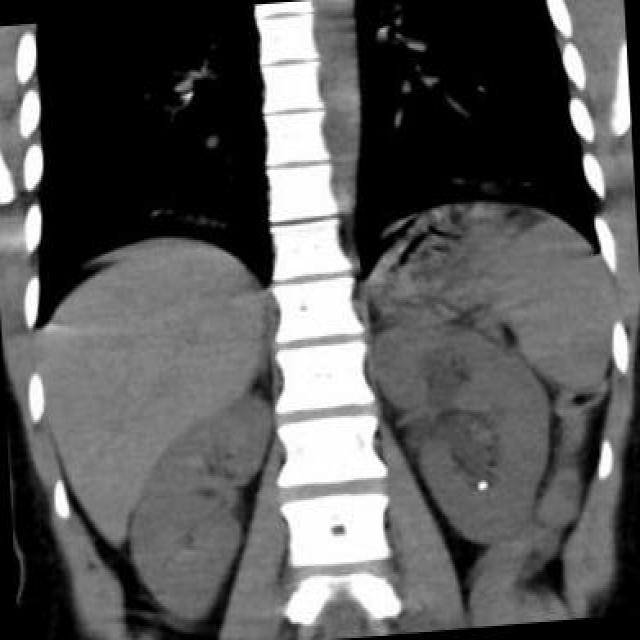Tas_Var: (475, 481, 487, 495)
